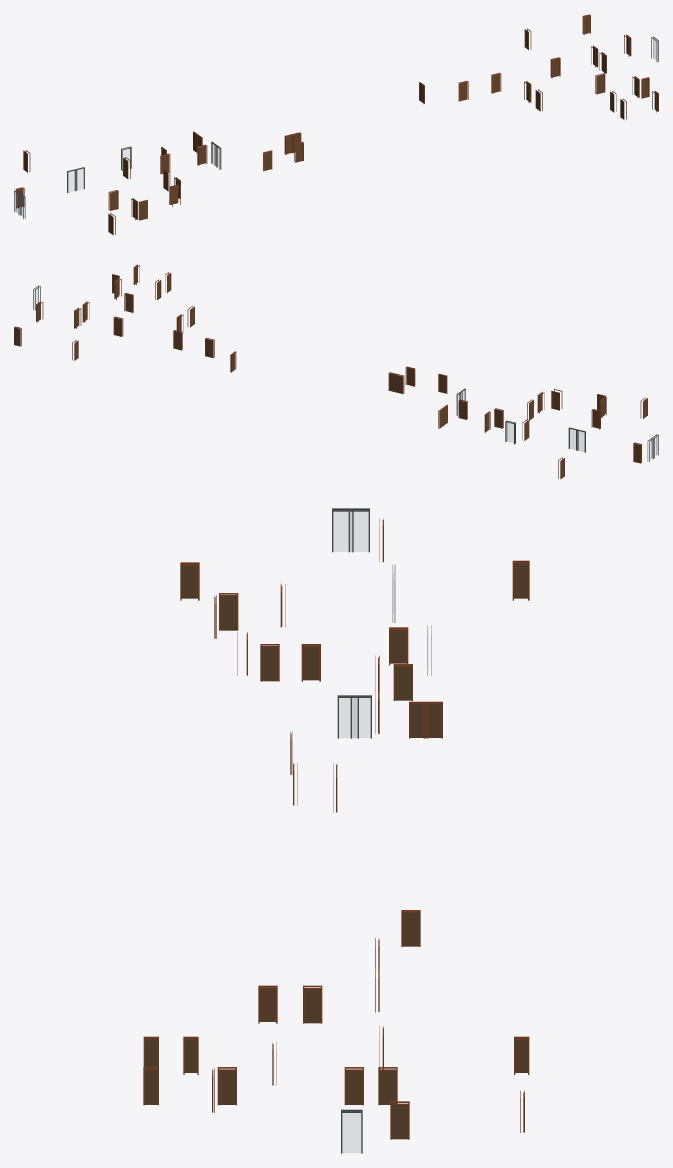
File: insaat_revit.ifc.ifc.ifc_93.0 Matbaa_IfcDoor.dae
3 views of the same model, one above another, from view 1: azimuth 30°, elevation 25°; view 2: azimuth 150°, elevation 25°; view 3: azimuth 270°, elevation 25° (orthographic). The views are drawn at different scales.
Parts seen in each view (by area): view 1: no part large enough to name; view 2: no part large enough to name; view 3: 3LQ8tu3svEtw7e0YdlF86X, 0$aZqvUuD69uy95aB_5H$r, 2iSfXM1cXCnhCwrFOYezqj.
Part boxes in pixels (x1,y1,x2,y2): 3LQ8tu3svEtw7e0YdlF86X: (341,1109,362,1153); 0$aZqvUuD69uy95aB_5H$r: (332,508,353,552); 2iSfXM1cXCnhCwrFOYezqj: (337,695,358,738).
Size of the model in its own units: 76.3 by 20.64 by 2.48.
